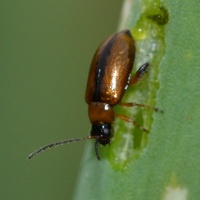insect: (28, 0, 168, 169), (28, 30, 157, 158)
